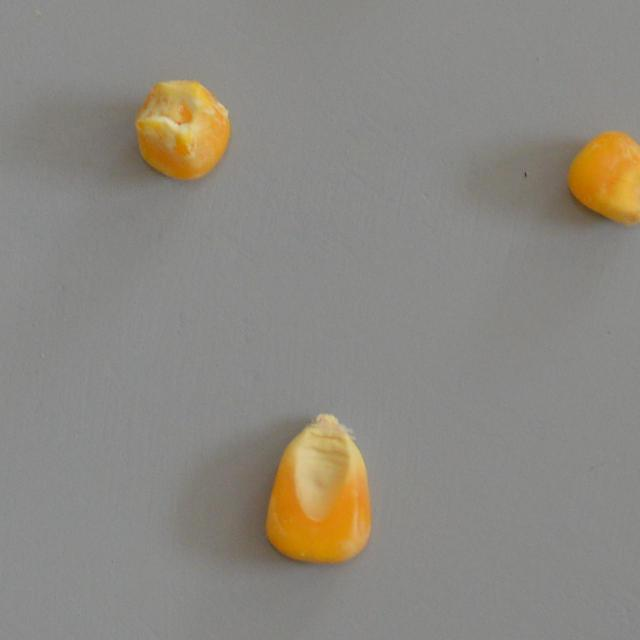no_desgerminado: (262, 410, 372, 567), (130, 74, 236, 181), (563, 120, 640, 228)
